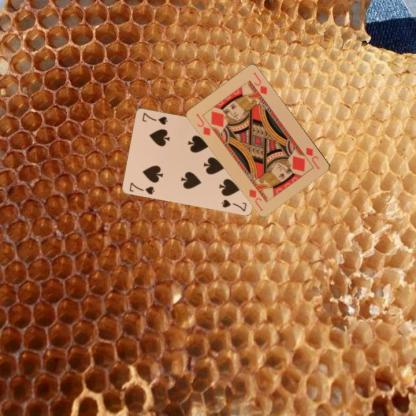7s: (127, 180, 156, 196)
Jd: (304, 144, 322, 171), (194, 111, 212, 137)
